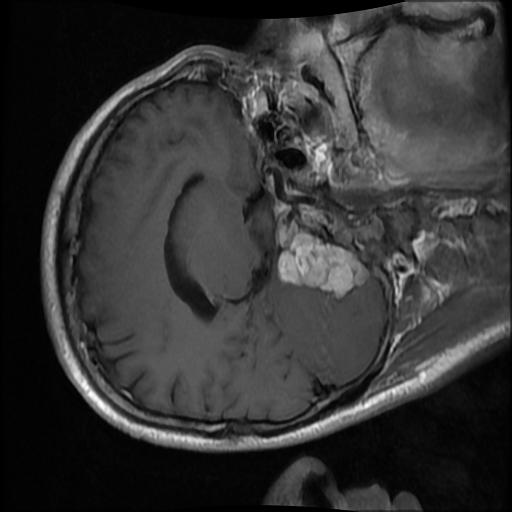meningioma: (277, 232, 368, 298)
